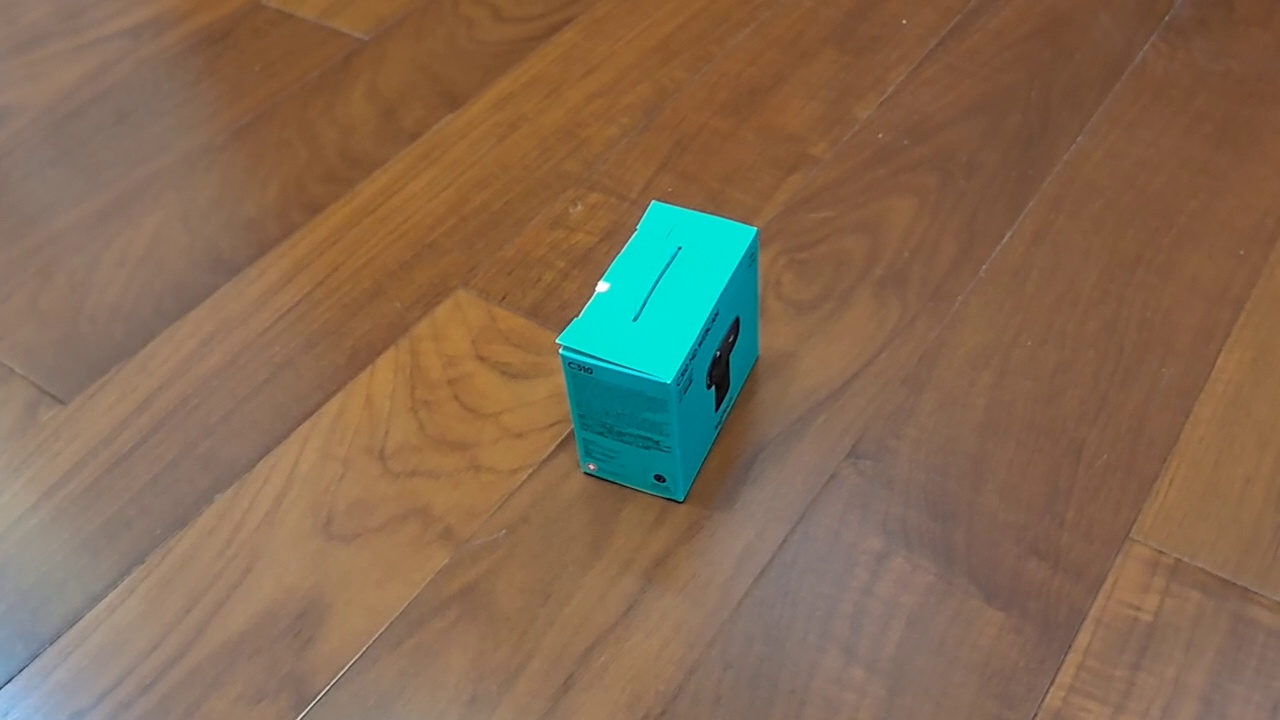webcam: (554, 198, 761, 503)
